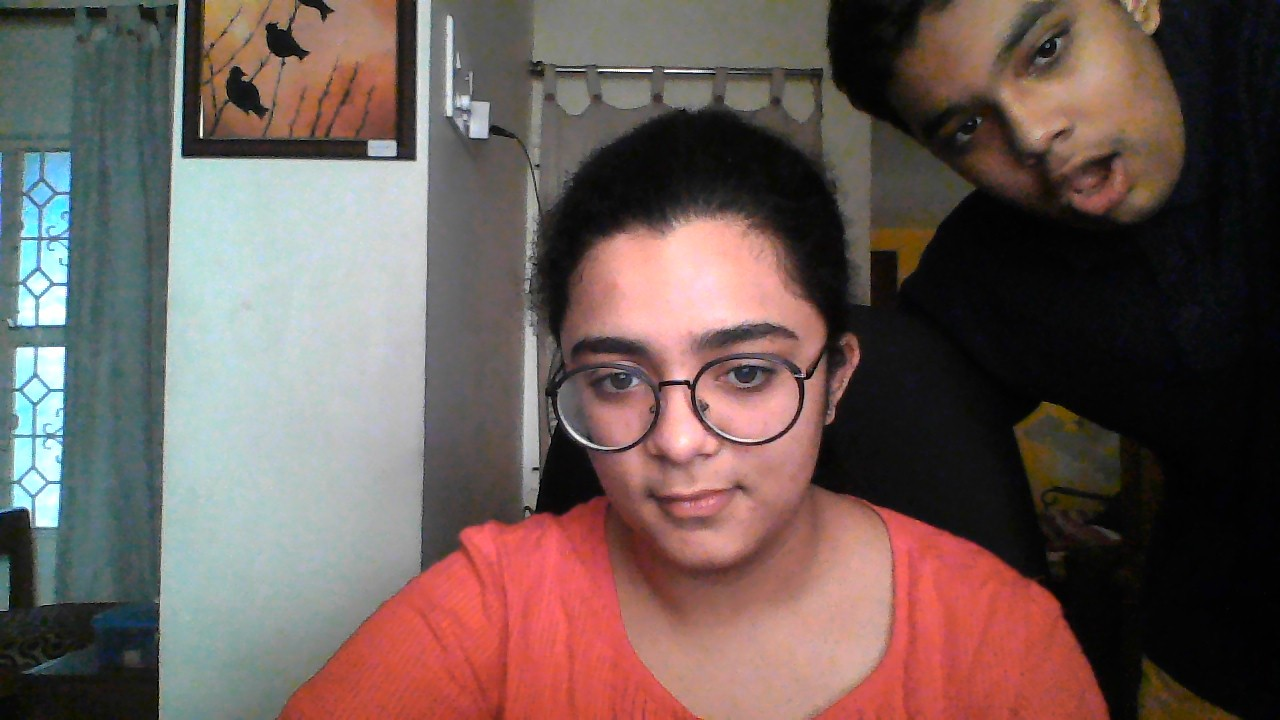person: (523, 121, 887, 611), (830, 4, 1215, 267)
